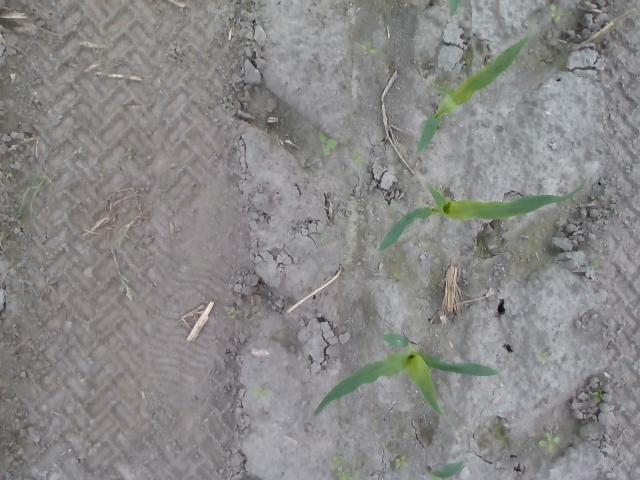Maize: (312, 331, 504, 423), (380, 180, 587, 252), (416, 38, 526, 158), (426, 461, 466, 480)
Weeds: (332, 458, 358, 480), (537, 432, 560, 454), (318, 132, 338, 156), (545, 4, 563, 23), (360, 44, 378, 56), (592, 389, 607, 402), (393, 456, 408, 468), (227, 305, 240, 318), (352, 152, 364, 162), (392, 271, 406, 279), (540, 352, 548, 365)
